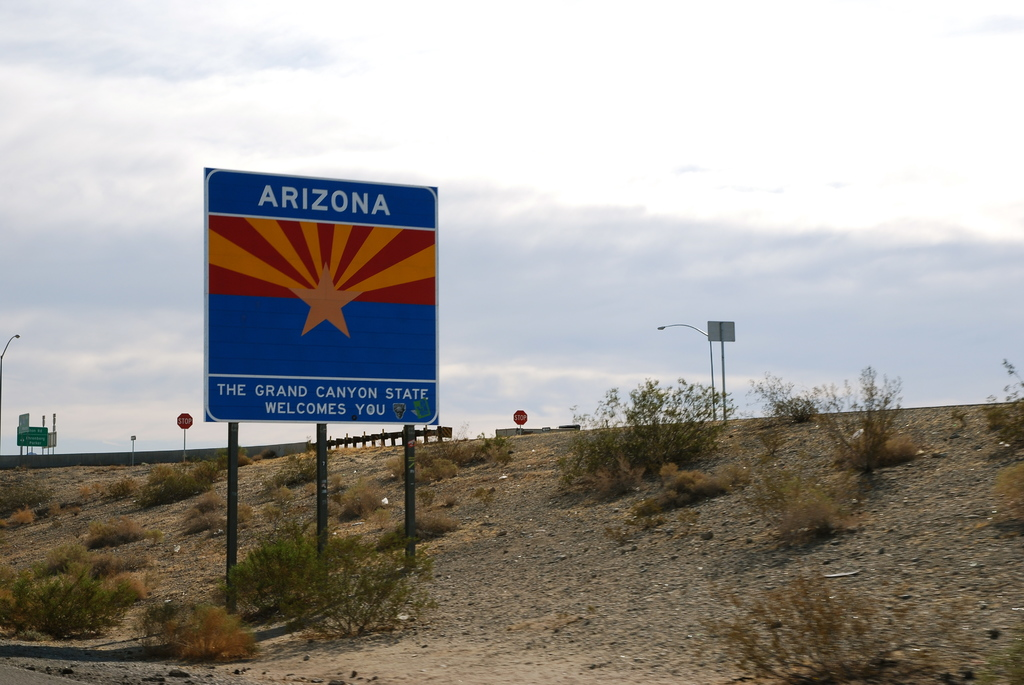stop: (174, 411, 194, 429), (512, 408, 529, 425)
